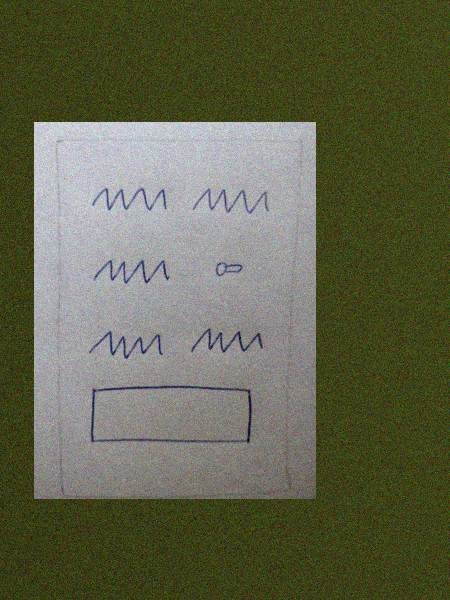switch: (210, 252, 250, 279)
text: (85, 251, 176, 292), (82, 324, 170, 365), (185, 321, 270, 360), (190, 182, 275, 219), (87, 178, 175, 213)
text_input: (86, 380, 262, 449)
